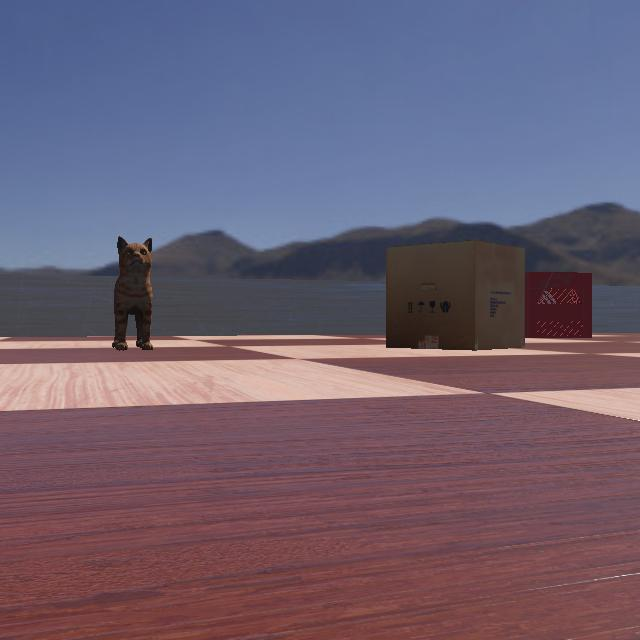cardboard-box: (378, 240, 548, 350), (378, 240, 548, 350)
cat: (72, 232, 184, 352), (72, 232, 184, 352), (72, 232, 184, 352)
plastic-crate: (506, 271, 592, 337)
